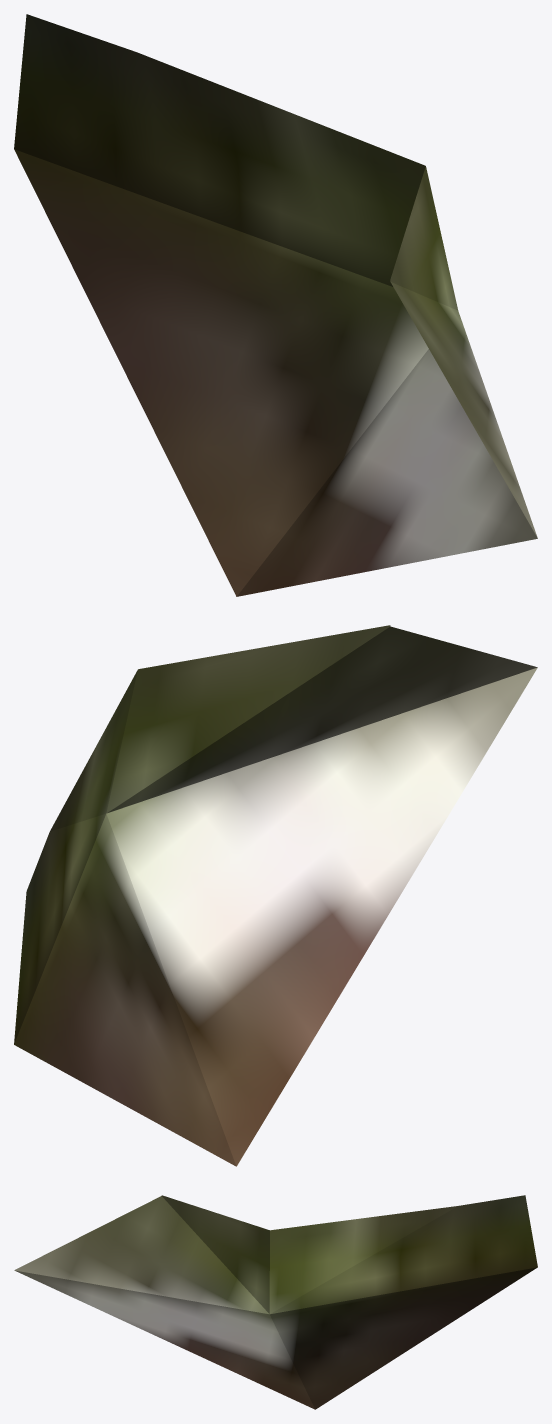
3 renders of one model, top to bottom at view 1: azimuth 30°, elevation 25°; view 2: azimuth 150°, elevation 25°; view 3: azimuth 270°, elevation 25°, orthographic. The views are drawn at different scales.
Size of the model in its own units: 0.025 by 0.0582 by 0.1288.
Materials: 1 (1 with a texture image).
